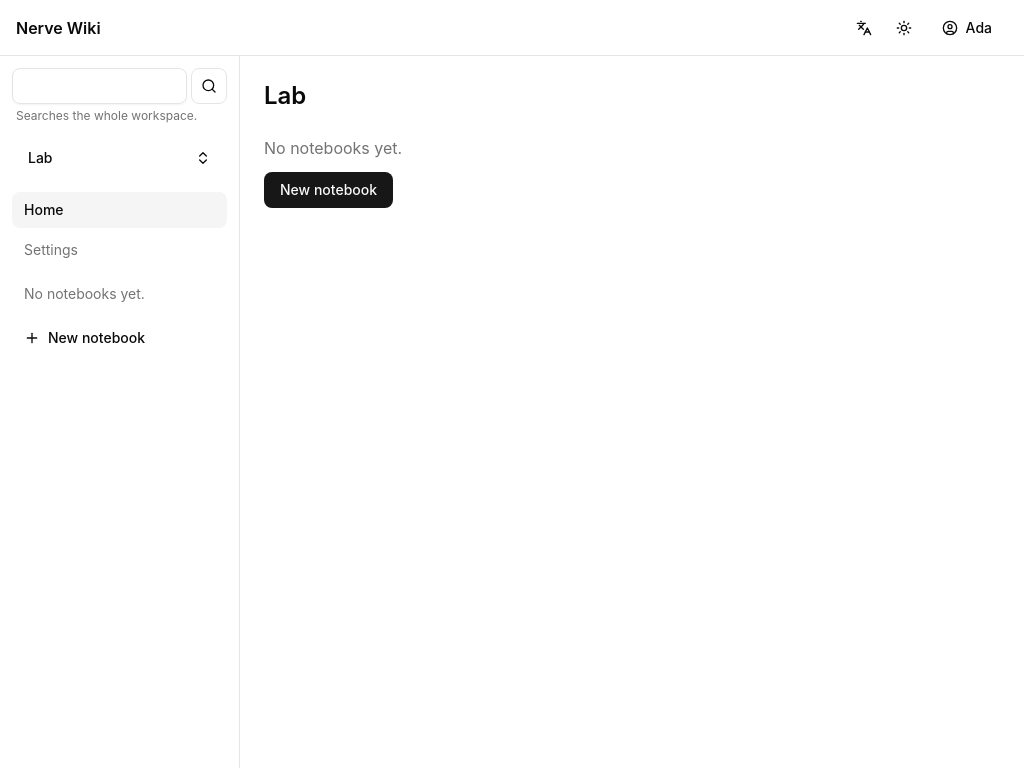
Scenario: the switcher lists the account's workspaces, checks the one shown, and goes to another
Click the button "Lab" at [120, 158], box [12,140,227,176]
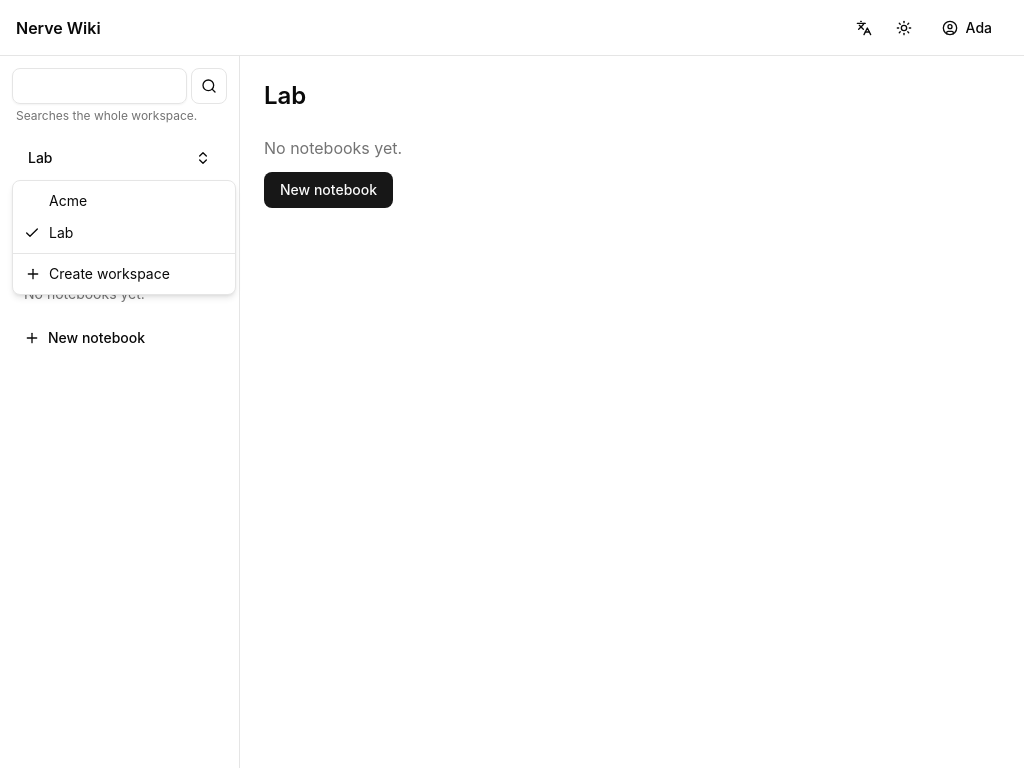
Click the menu item "Acme" at [68, 200], box [49,192,87,209]
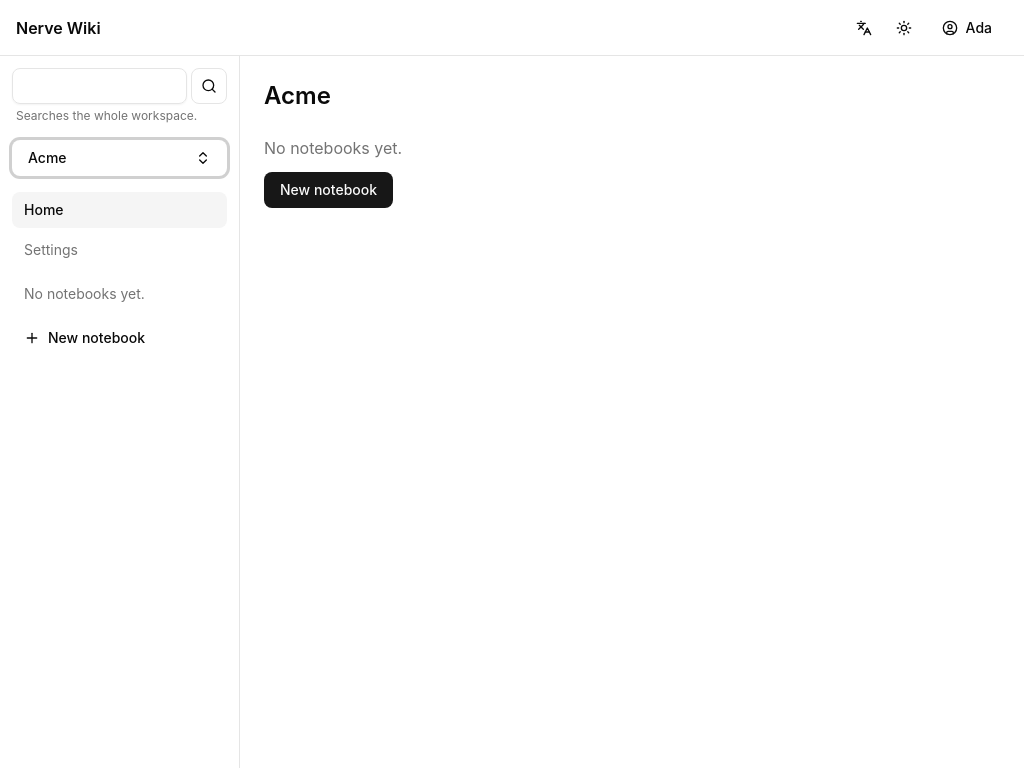
Check: the heading "Acme" is shown, box [264,81,331,110]
